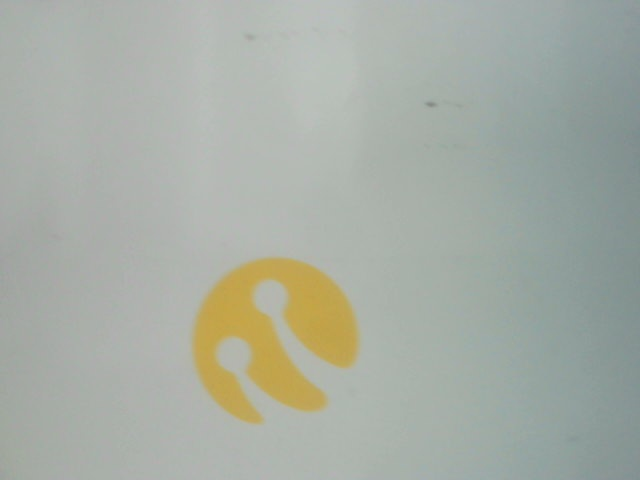AV_H3600Yellow: (185, 246, 376, 431)
